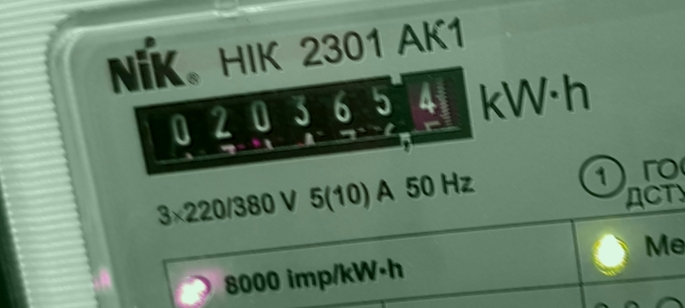0: (170, 110, 194, 146), (251, 96, 273, 133)
2: (209, 102, 234, 139)
3: (292, 90, 313, 126)
4: (417, 78, 439, 114)
5: (372, 82, 394, 116)
6: (332, 86, 354, 123)
screen: (118, 53, 493, 185)
